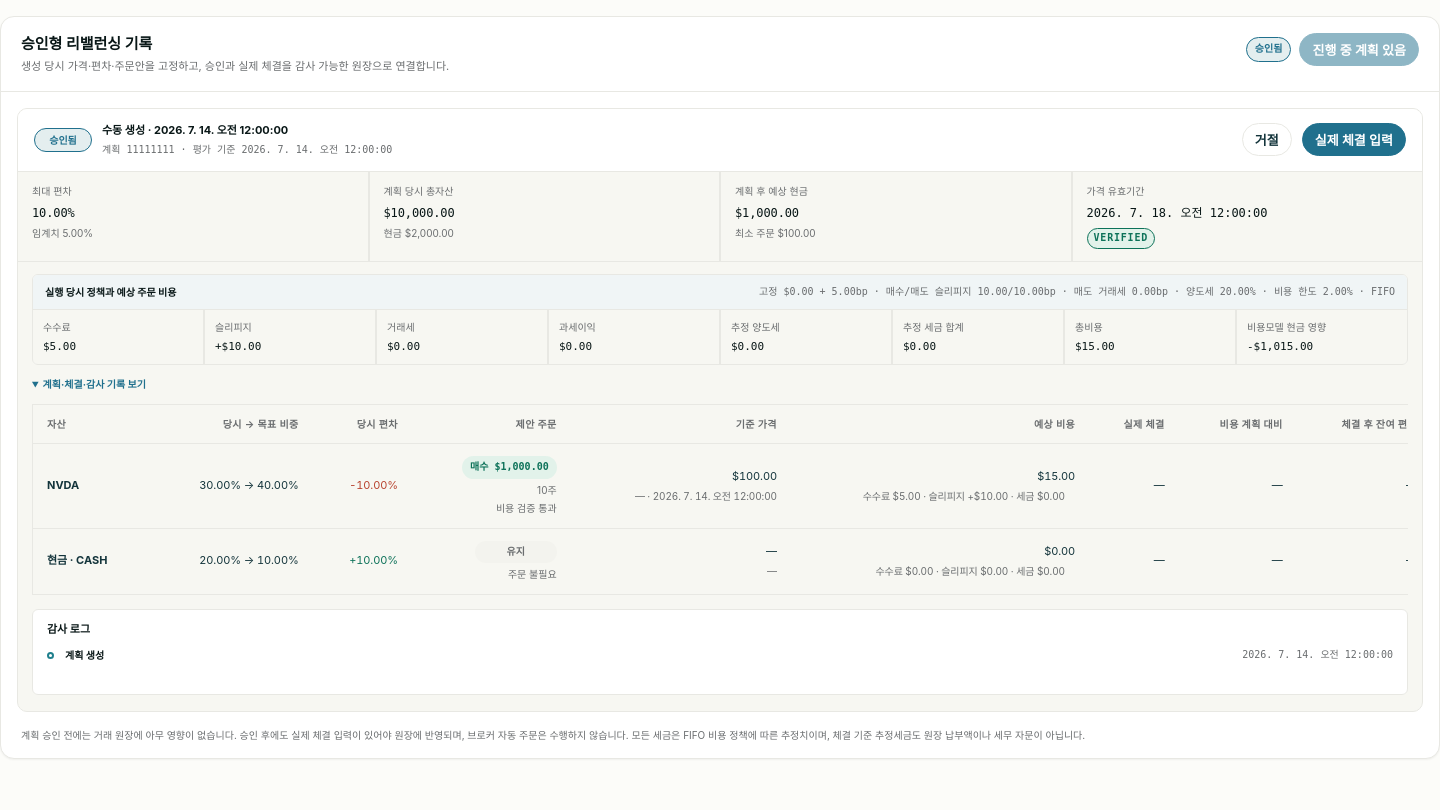
it: RebalanceWorkflowPanel › closes a stale execution dialog when the approved run is no longer executable
The width and height of the screenshot is (1440, 810).
Click the button "실제 체결 입력". click: (1354, 139)
box: [1302,123,1406,156]
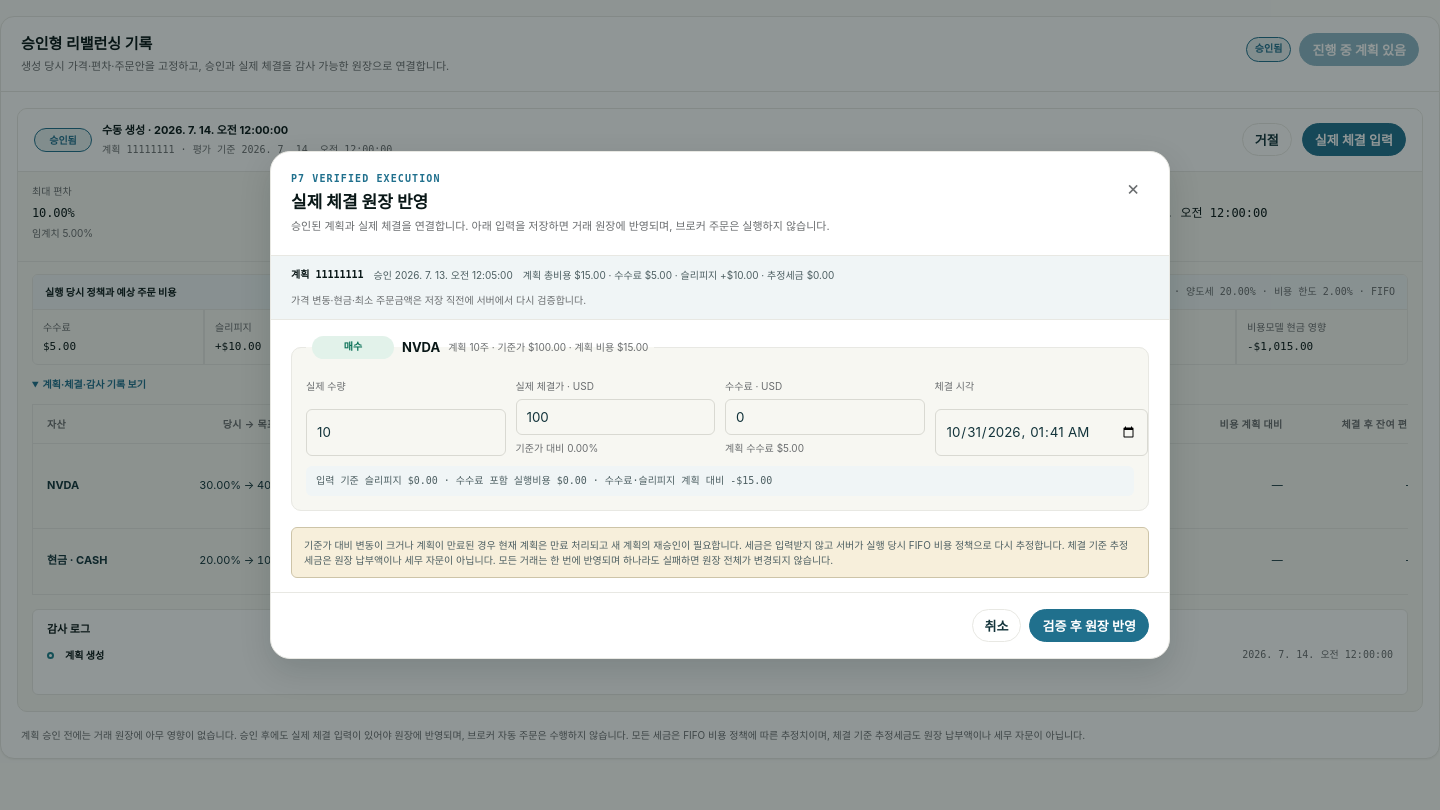
Expected: the dialog "실제 체결 원장 반영" is shown, [270,151,1170,659]
